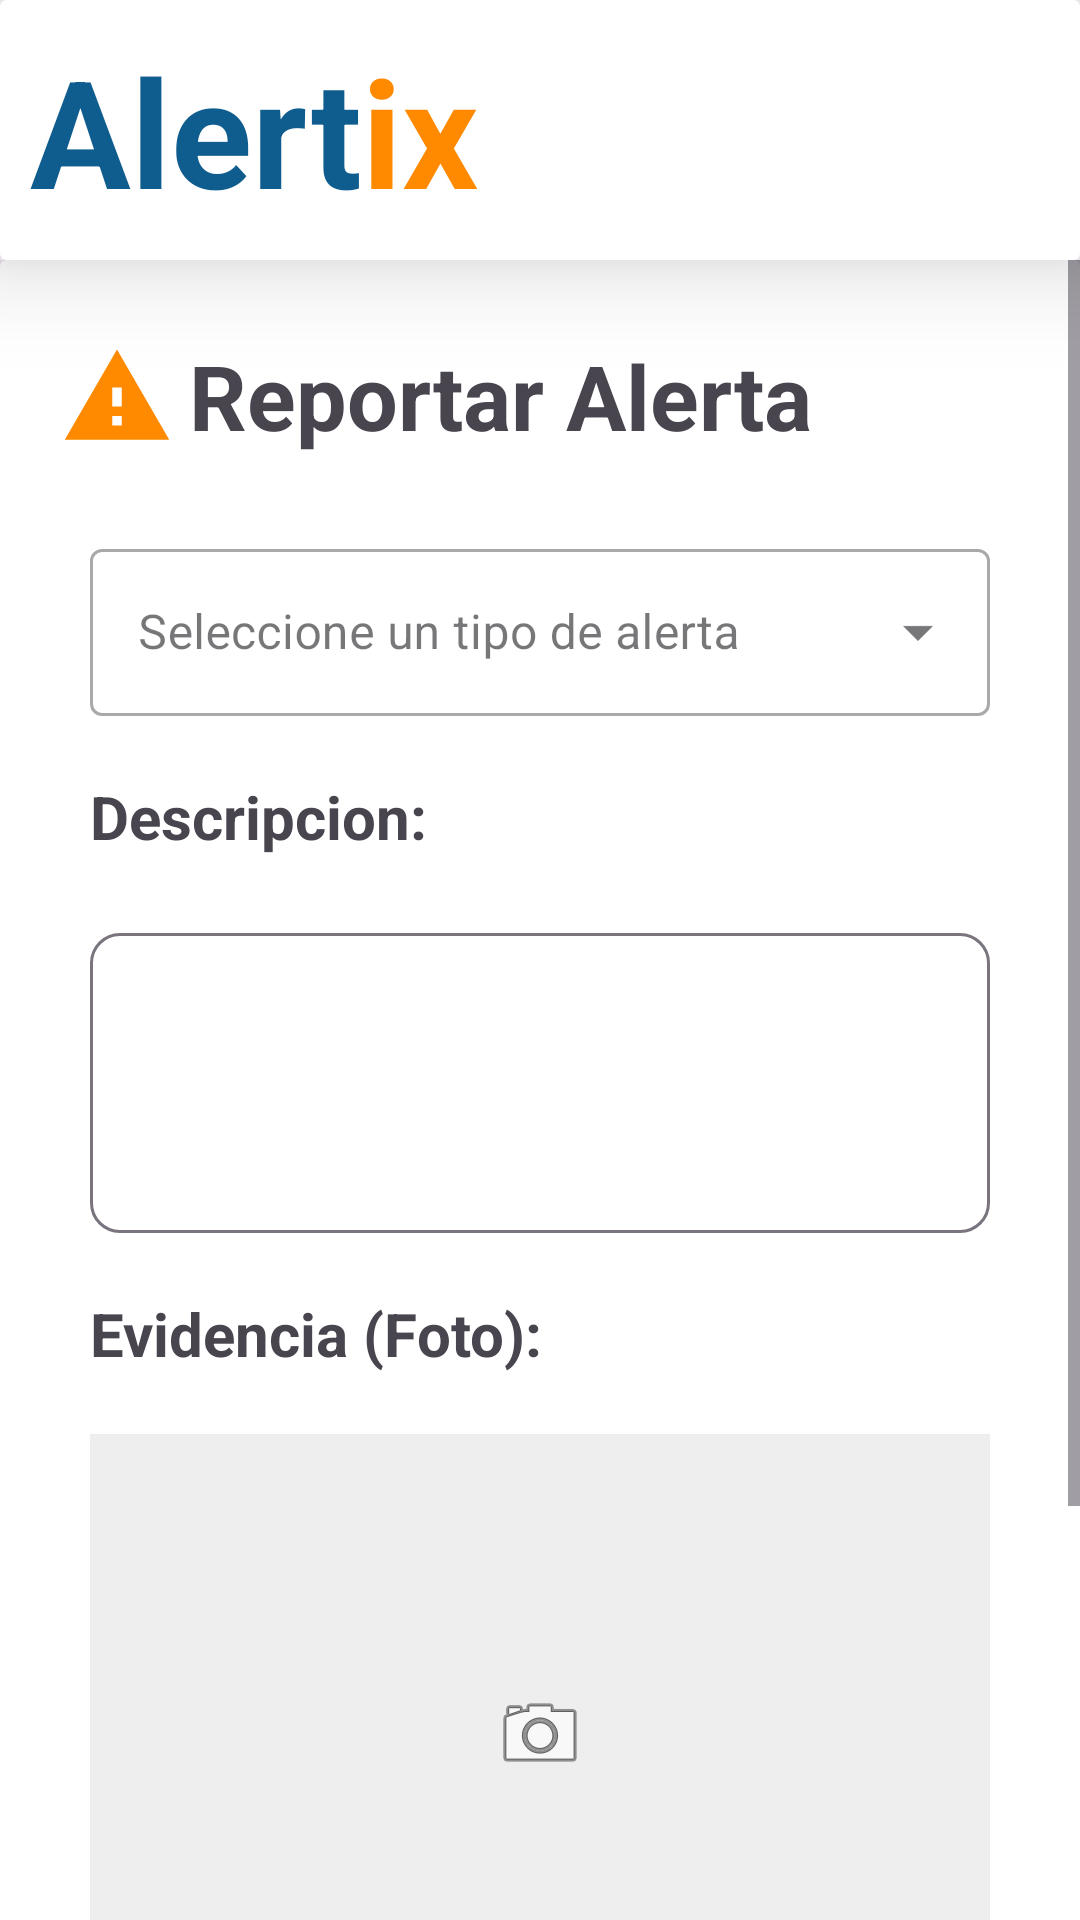

Screen size 1080w x 1920h. Icon name, then its center in pixels as (x=x, y=y):
warning naranja: (x=117, y=395)
